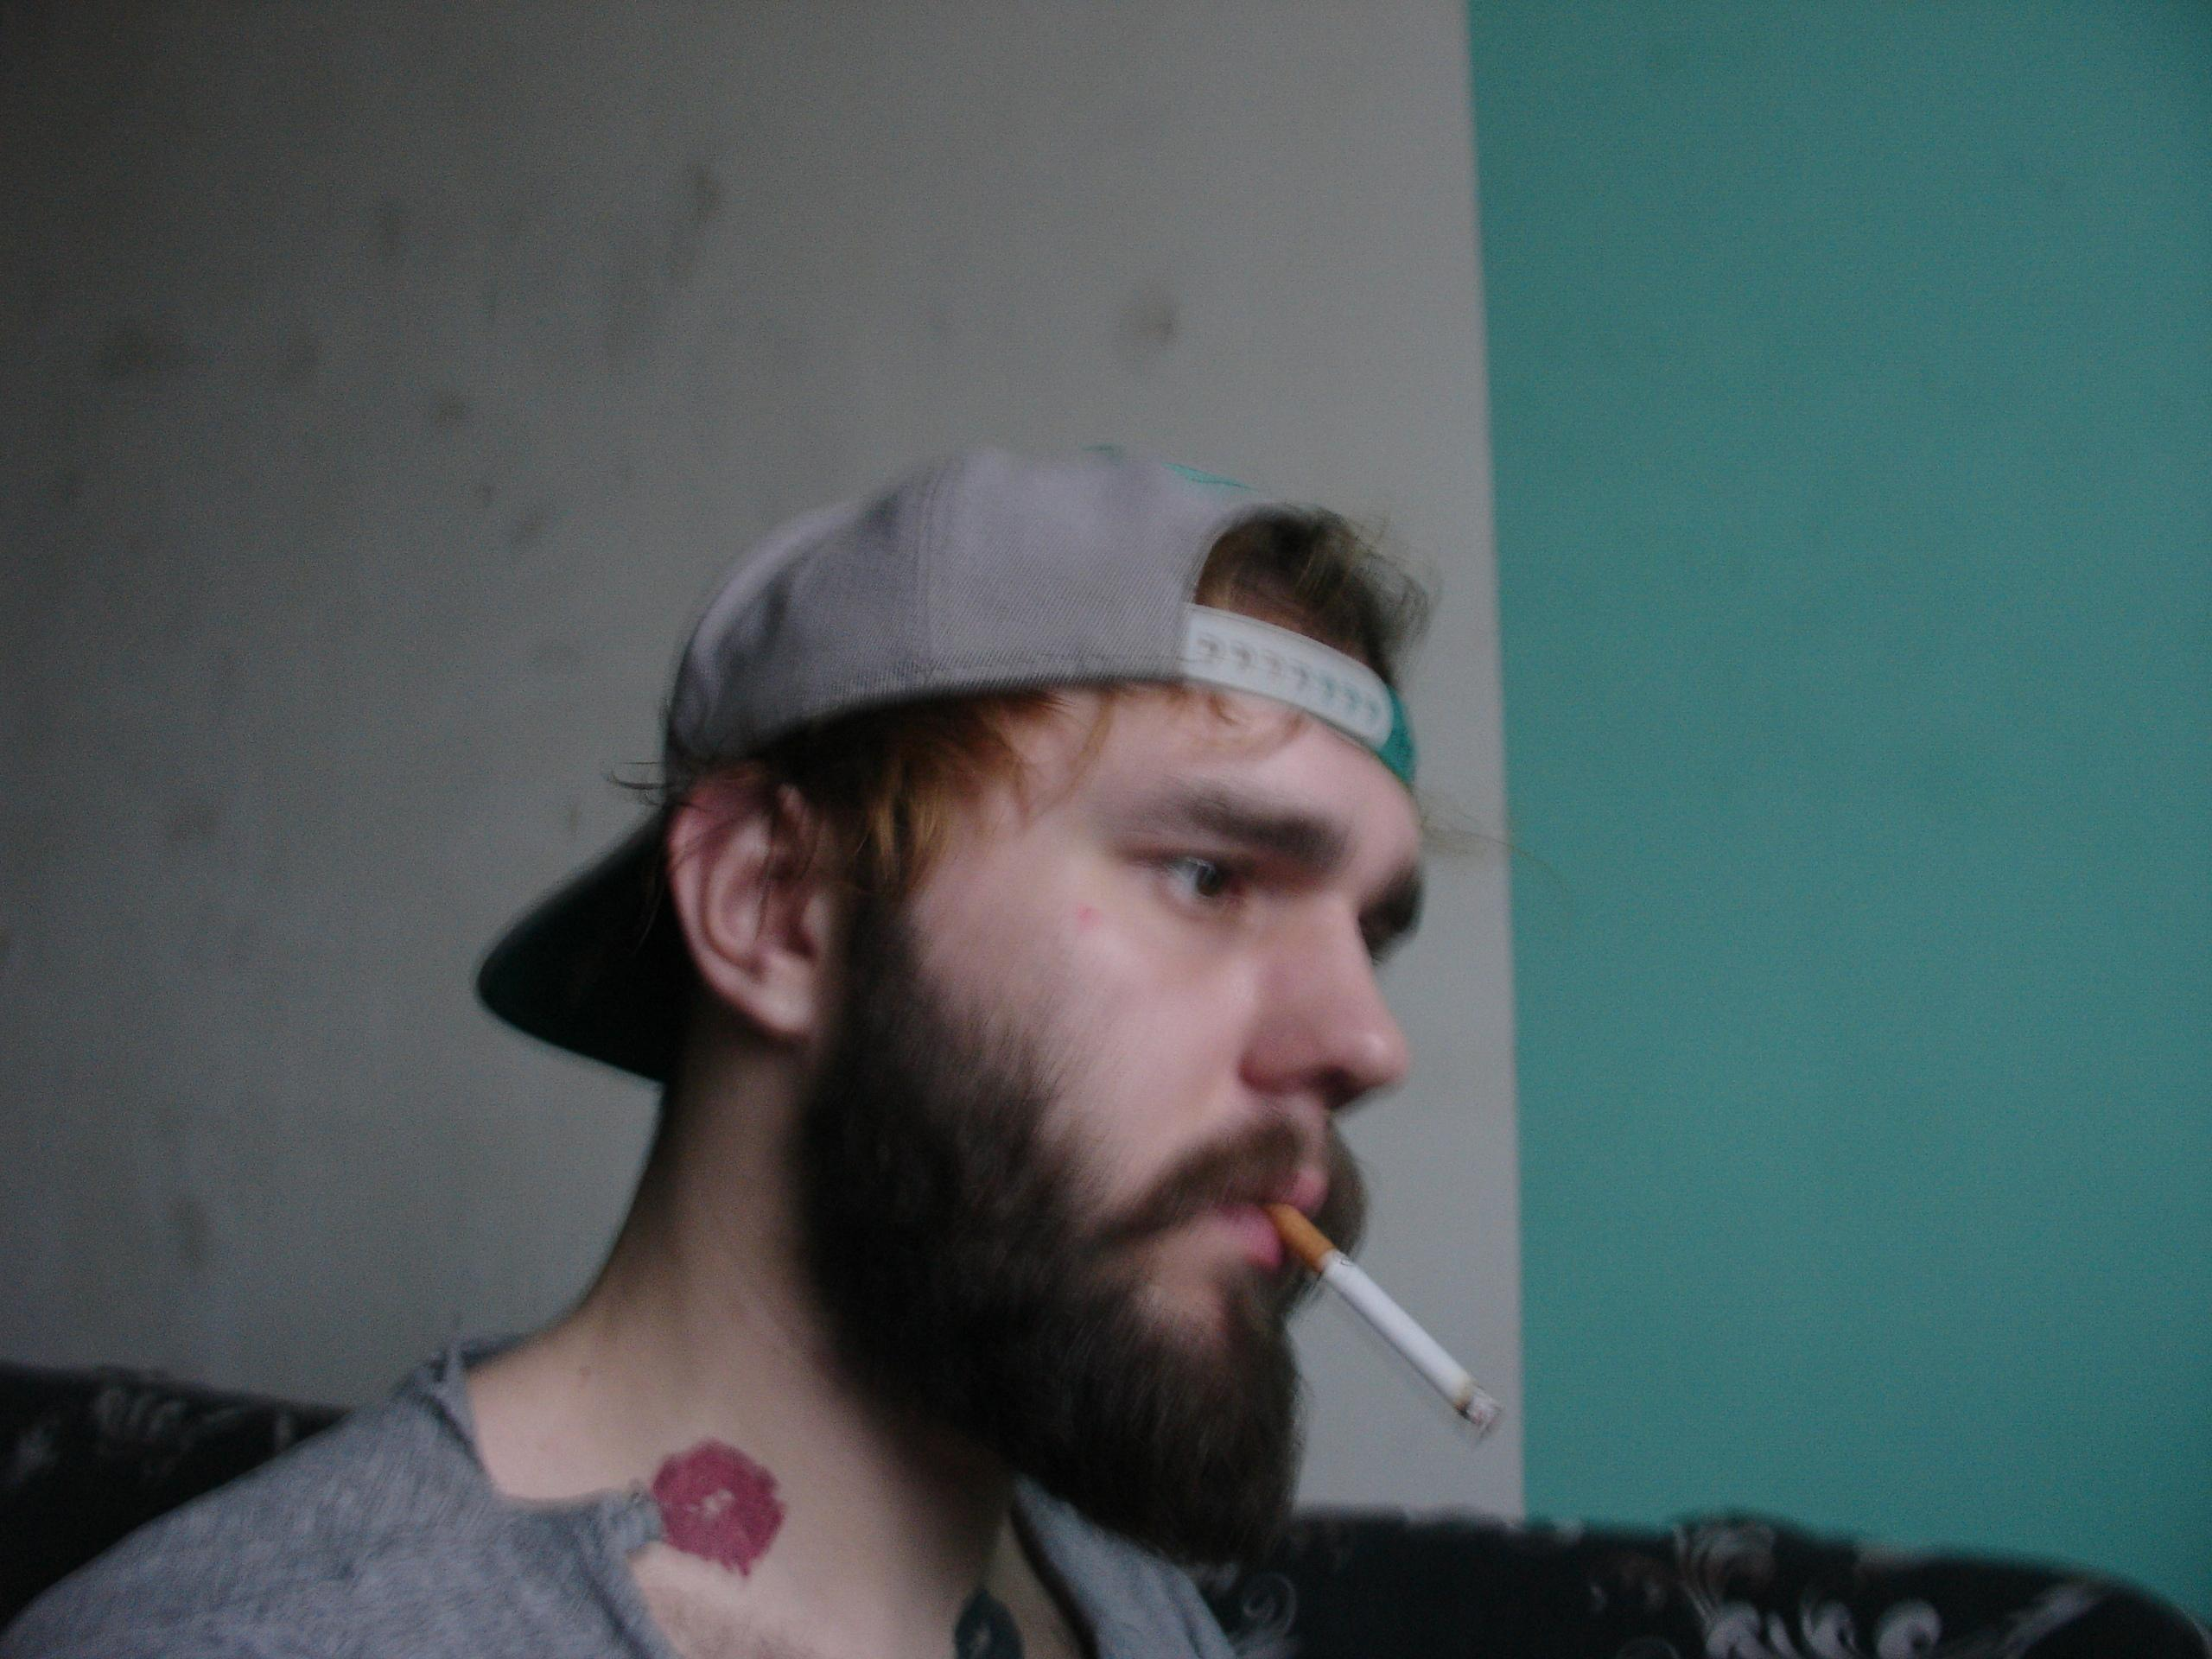cigarette: (1258, 1202, 1507, 1434)
